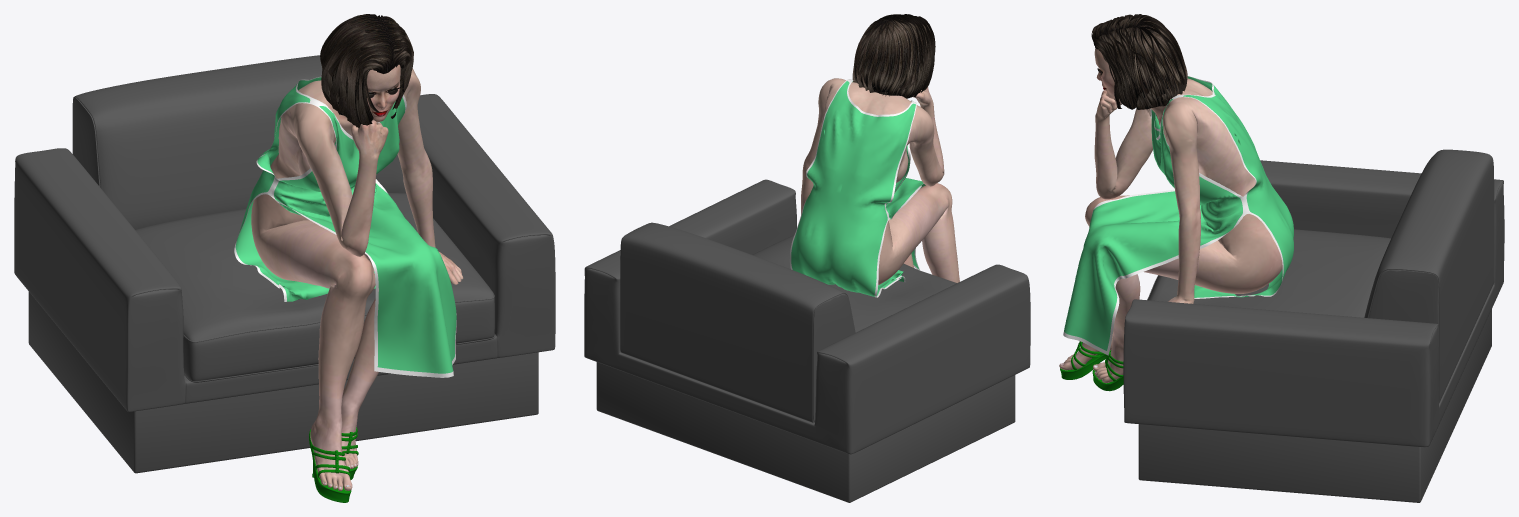
3 views of the same model, side by side, from view 1: azimuth 30°, elevation 25°; view 2: azimuth 150°, elevation 25°; view 3: azimuth 270°, elevation 25° (orthographic). The views are drawn at different scales.
Parts seen in each view (by area): view 1: obj_07, hsFigure_1, hssdShoes; view 2: obj_07, hsFigure_1; view 3: obj_07, hsFigure_1, hssdShoes.
Boxes of the visible parts, x1,y1,x2,y2 form: obj_07: (14, 55, 555, 473); hsFigure_1: (234, 14, 463, 490); hssdShoes: (309, 427, 358, 502); obj_07: (584, 179, 1030, 502); hsFigure_1: (789, 14, 959, 297); obj_07: (1123, 149, 1504, 502); hsFigure_1: (1059, 14, 1293, 383); hssdShoes: (1060, 341, 1123, 391).
Bounding box in the file's own units: 1294 × 1230 × 1275.
36 materials, 30 textured.
